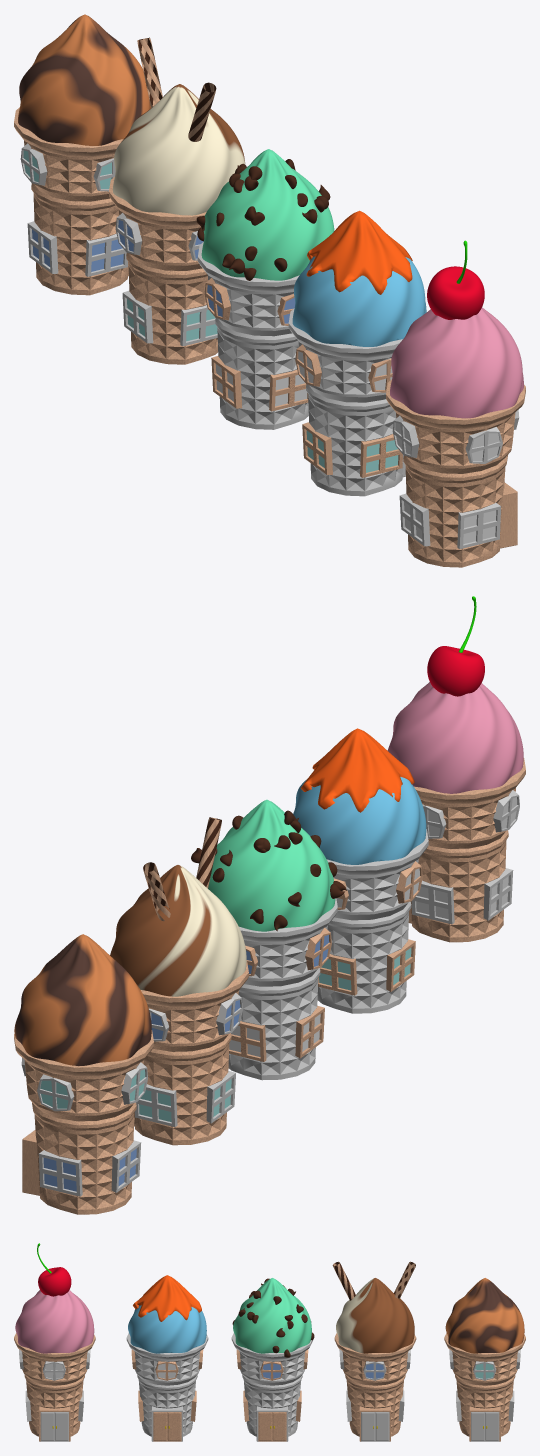
File: Ice Cream House.fbx
The picture shows the model from 3 angles, top to bottom: view 1: azimuth 30°, elevation 25°; view 2: azimuth 150°, elevation 25°; view 3: azimuth 270°, elevation 25°; orthographic projection. The views are drawn at different scales.
Parts seen in each view (by area): view 1: Sphere.004, Sphere, Sphere.003, Sphere.001, Cone.004, Sphere.002, Cone.003, Cone.001, Cone.002, Cone, Cube.005, Cube.004 (+9 smaller); view 2: Sphere.004, Sphere, Sphere.001, Sphere.003, Cone.001, Sphere.002, Cone.004, Cone, Cone.003, Cone.002, Cube.002, Cube.005 (+9 smaller); view 3: Sphere, Sphere.004, Sphere.003, Sphere.001, Sphere.002, Cone.001, Cone, Cone.003, Cone.004, Cone.002, Portão.002, Portão (+13 smaller).
Part boxes in pixels (x1,y1,x2,y2): Sphere.004: [390, 240, 523, 418]; Sphere: [112, 37, 245, 215]; Sphere.003: [292, 210, 426, 346]; Sphere.001: [18, 14, 150, 145]; Cone.004: [386, 379, 525, 567]; Sphere.002: [201, 149, 334, 280]; Cone.003: [288, 308, 403, 496]; Cone.001: [14, 107, 128, 295]; Cone.002: [197, 242, 308, 429]; Cone: [109, 177, 218, 364]; Cube.005: [399, 493, 500, 548]; Cube.004: [302, 422, 402, 477]; Sphere.004: [387, 596, 523, 793]; Sphere: [110, 817, 246, 996]; Sphere.001: [14, 934, 151, 1066]; Sphere.003: [293, 728, 426, 864]; Cone.001: [14, 1030, 153, 1214]; Sphere.002: [208, 799, 335, 931]; Cone.004: [410, 758, 525, 942]; Cone: [134, 961, 248, 1145]; Cone.003: [317, 829, 428, 1013]; Cone.002: [228, 898, 337, 1080]; Cube.002: [38, 1140, 141, 1196]; Cube.005: [411, 868, 513, 924]; Sphere: [332, 1261, 415, 1353]; Sphere.004: [15, 1243, 94, 1353]; Sphere.003: [128, 1275, 206, 1353]; Sphere.001: [445, 1278, 524, 1353]; Sphere.002: [233, 1278, 311, 1353]; Cone.001: [444, 1333, 525, 1436]; Cone: [334, 1333, 416, 1436]; Cone.003: [126, 1333, 208, 1436]; Cone.004: [14, 1333, 95, 1436]; Cone.002: [231, 1333, 312, 1436]; Portão.002: [256, 1406, 288, 1441]; Portão: [359, 1406, 390, 1441].
Bounding box in the file's own units: 220 × 513 × 1298.
